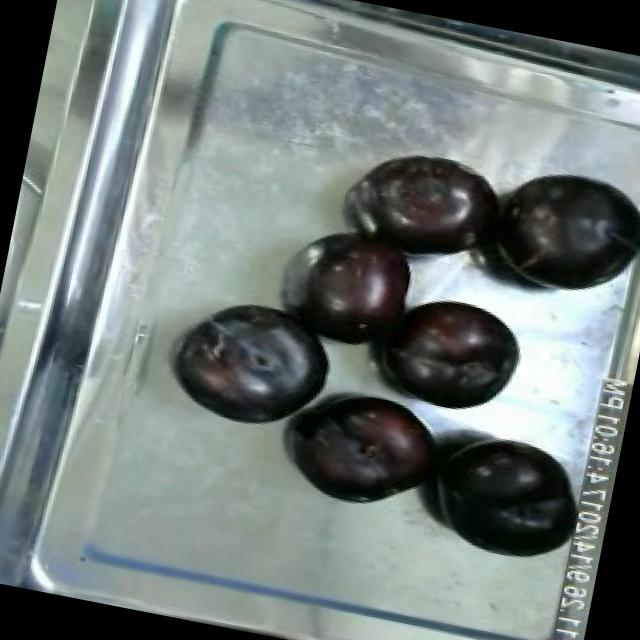Fruit: (160, 286, 346, 447), (413, 418, 591, 574), (364, 276, 538, 429), (274, 374, 450, 522), (481, 158, 640, 311), (344, 136, 512, 278), (282, 212, 432, 364)
